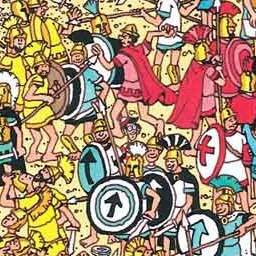waldo: (115, 112, 140, 144)
